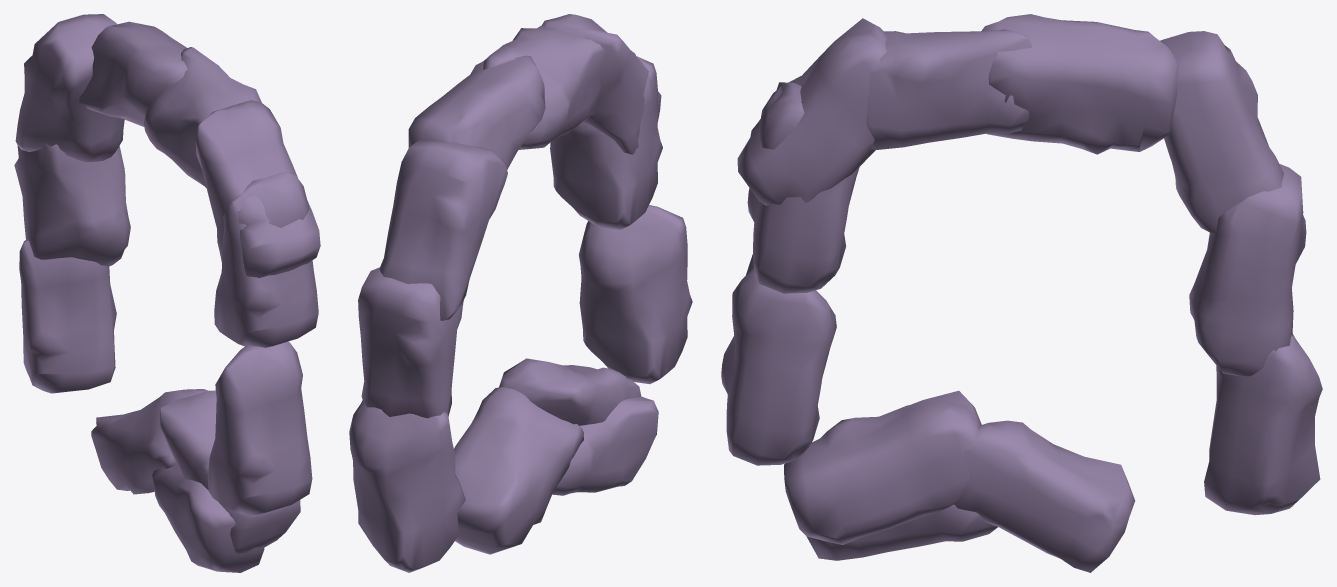
File: Wall_Break_07B_Lod0.fbx
The picture shows the model from 3 angles, left to right: view 1: azimuth 30°, elevation 25°; view 2: azimuth 150°, elevation 25°; view 3: azimuth 270°, elevation 25°; orthographic projection. The views are drawn at different scales.
Visible parts, largest first — view 1: Wall_Break_07B_Lod0; view 2: Wall_Break_07B_Lod0; view 3: Wall_Break_07B_Lod0.
Boxes of the visible parts, x1,y1,x2,y2 form: Wall_Break_07B_Lod0: (14, 14, 320, 572); Wall_Break_07B_Lod0: (349, 14, 692, 572); Wall_Break_07B_Lod0: (721, 14, 1322, 572).
Size of the model in its own units: 104 by 423 by 427.
